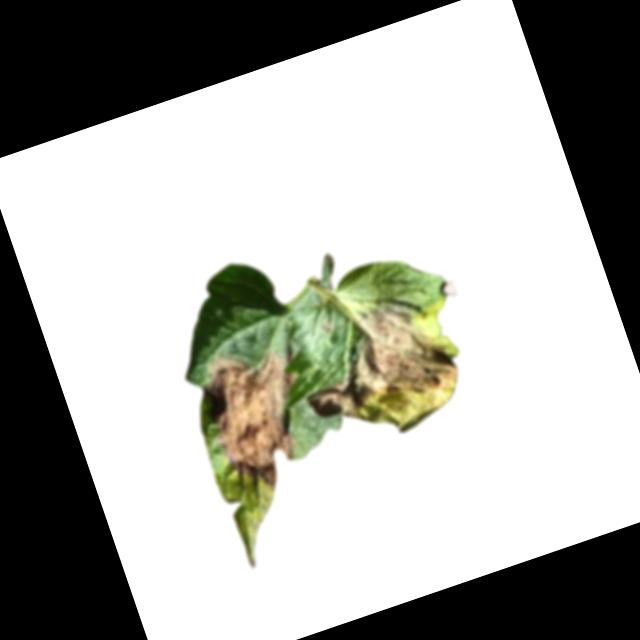Late_blight: (287, 287, 478, 459), (194, 333, 330, 497)
